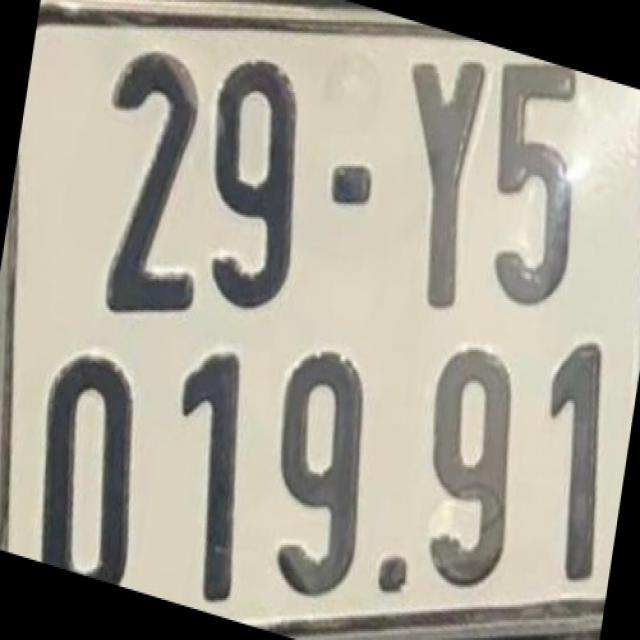0: (36, 344, 140, 576)
1: (172, 339, 252, 609), (540, 333, 608, 588)
2: (97, 38, 202, 319)
5: (490, 51, 580, 310)
9: (268, 339, 369, 604), (205, 46, 302, 316), (419, 333, 519, 592)
Y: (409, 54, 488, 316)
